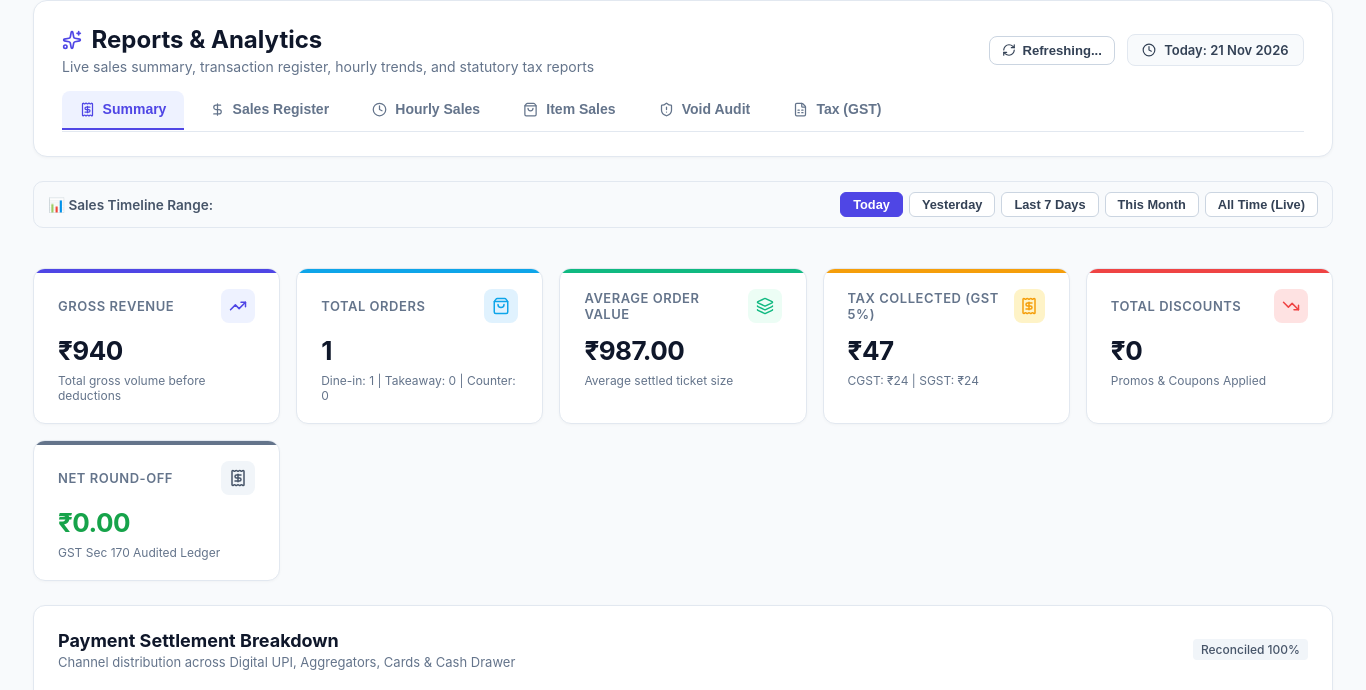
Test case: ReportsDashboard Component › navigates to View C: Menu Item Sales Matrix and supports search from real checked-out items
This screenshot has width=1366, height=690.
Click Item Matrix tab
Click the button "Item Sales".
click(569, 110)  # box [506,91,633,130]
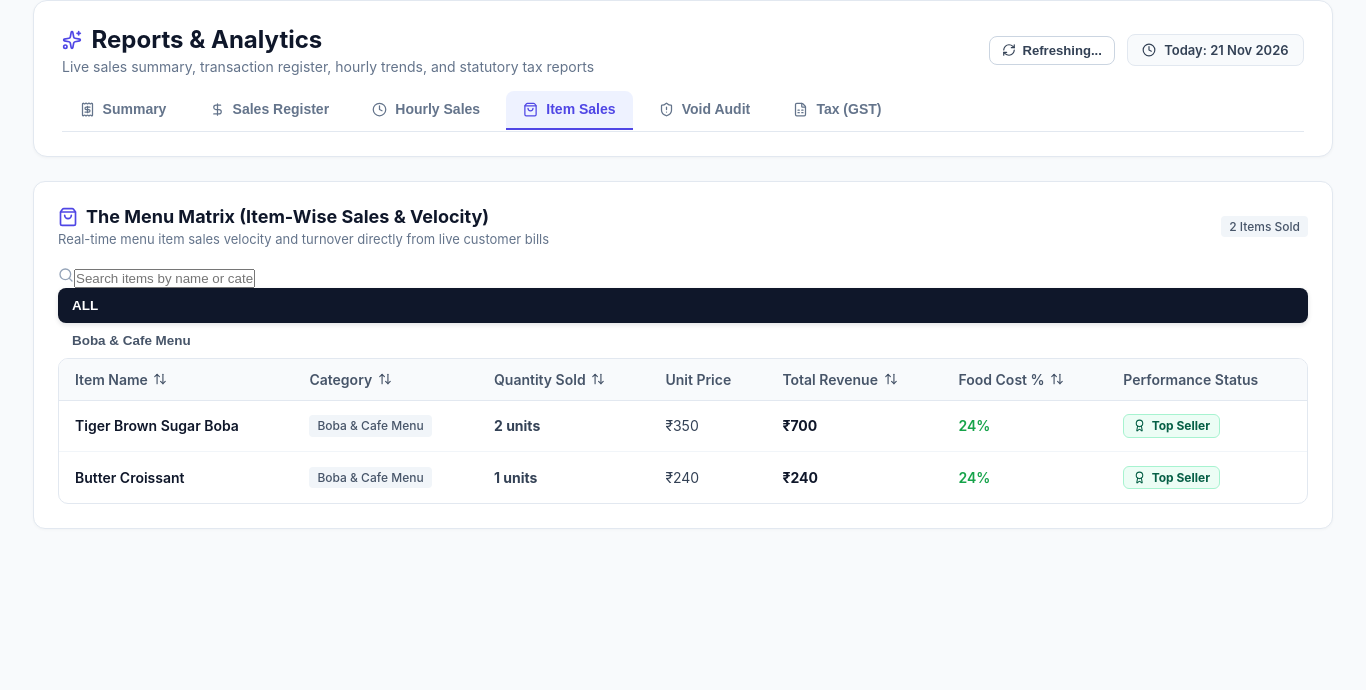
expect the heading "The Menu Matrix (Item-Wise Sales & Velocity)" is shown: met, box [58,206,549,227]
expect the text "Tiger Brown Sugar Boba" is shown: met, box [59,400,293,452]
expect the text "Butter Croissant" is shown: met, box [59,452,293,503]
Search filter test
Type "Croissant" into the field with placeholder "Search items by name or category...".
click(164, 278); type("Croissant")  # box [74,269,255,288]
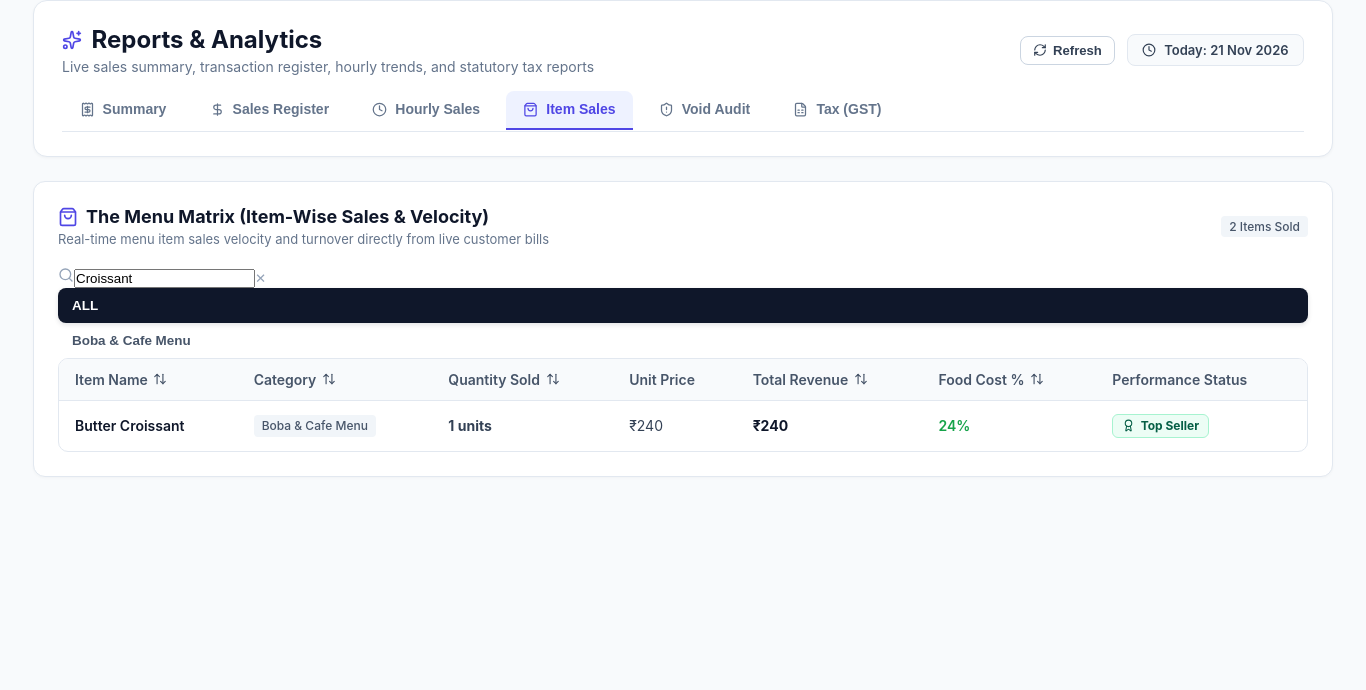
expect the text "Butter Croissant" is shown: met, box [59,400,238,451]
expect the text "Tiger Brown Sugar Boba" is gone: met
